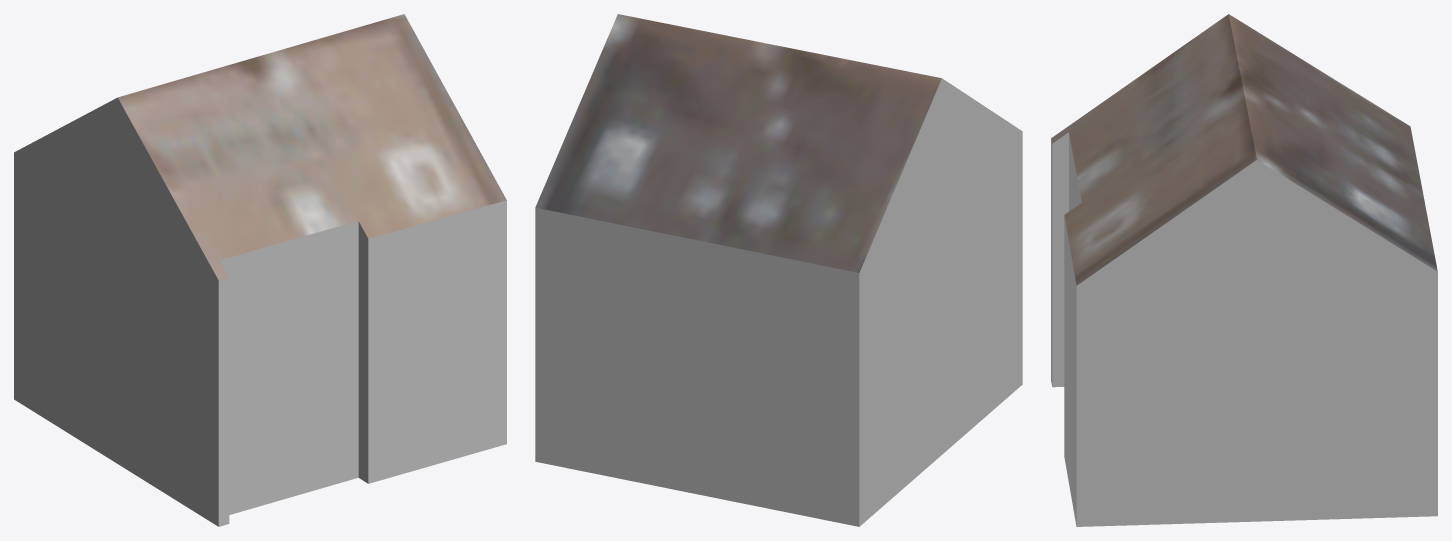
Rendered from DEBW_0010007Txdj.gltf.
3 renders of one model, left to right at view 1: azimuth 30°, elevation 25°; view 2: azimuth 150°, elevation 25°; view 3: azimuth 270°, elevation 25°, orthographic. The views are drawn at different scales.
Parts seen in each view (by area): view 1: Z_UP; view 2: Z_UP; view 3: Z_UP.
Part boxes in pixels (x1,y1,x2,y2): Z_UP: (14, 14, 506, 526); Z_UP: (535, 14, 1022, 526); Z_UP: (1051, 14, 1437, 526).
Bounding box in the file's own units: 9.76 × 10.56 × 10.21.
2 materials, 1 textured.
